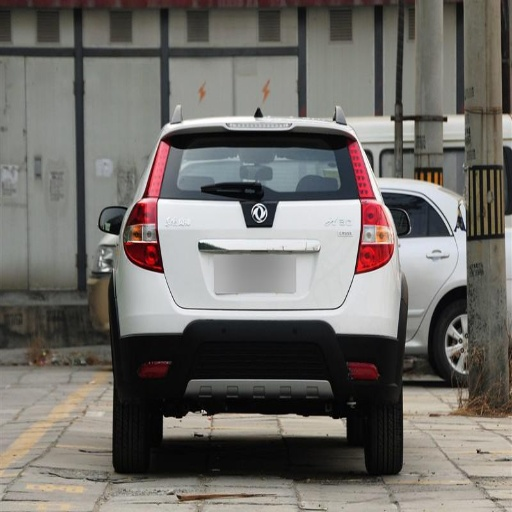back_bumper: (108, 259, 429, 404)
back_glass: (164, 131, 354, 198)
tailgate: (157, 196, 239, 306)
trunk: (165, 197, 361, 308)
